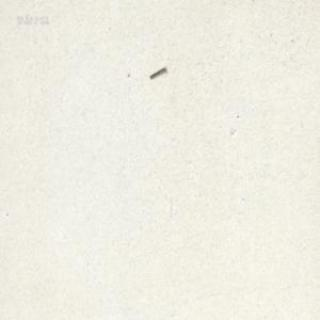Bolttrack_idkeyframe: (148, 64, 166, 78)
